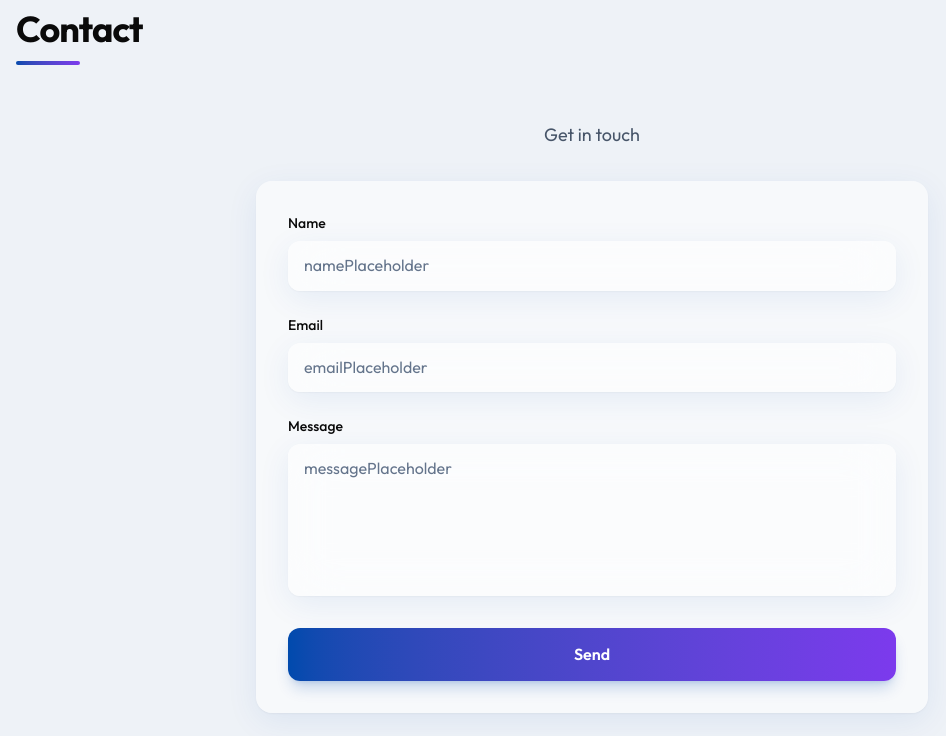
Scenario: Contact › submit button is disabled during loading
The width and height of the screenshot is (946, 736).
Fill out form
In the field labelled "Name": (592, 266) [288,241,896,291], type "John"
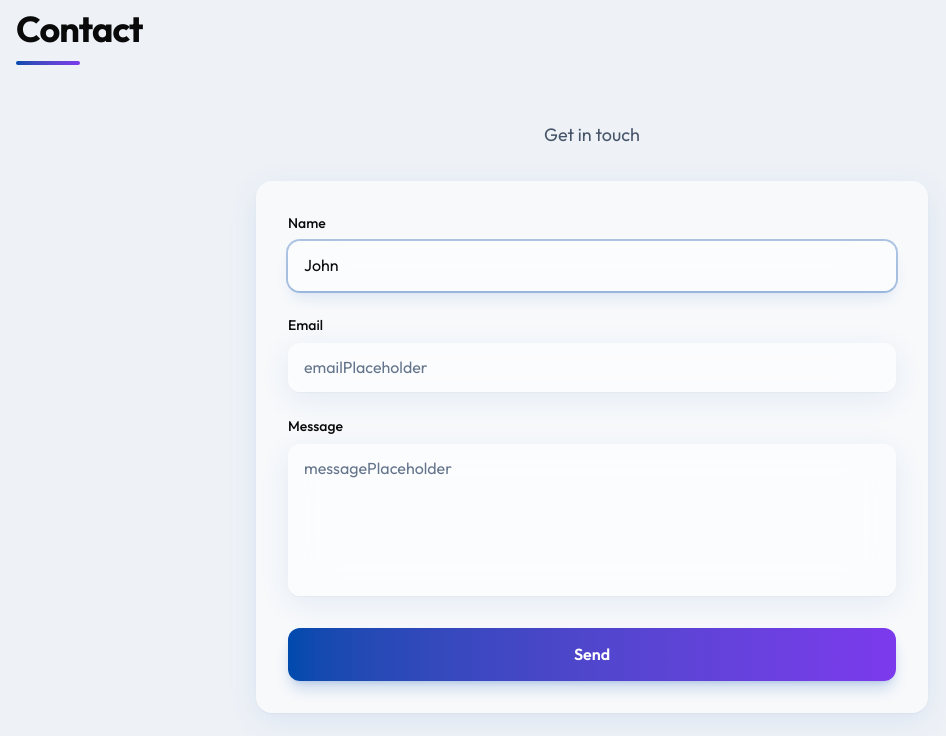
In the field labelled "Email": (592, 367) [288,343,896,392], type "john@test.com"
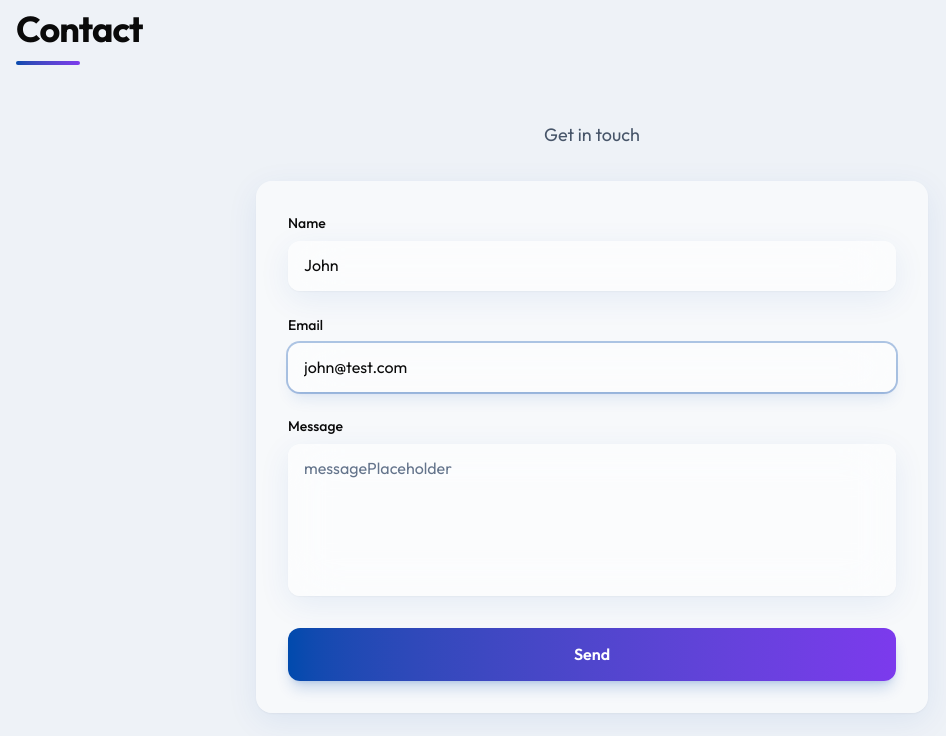
In the text box labelled "Message": (592, 520) [288,444,896,596], type "Hello"
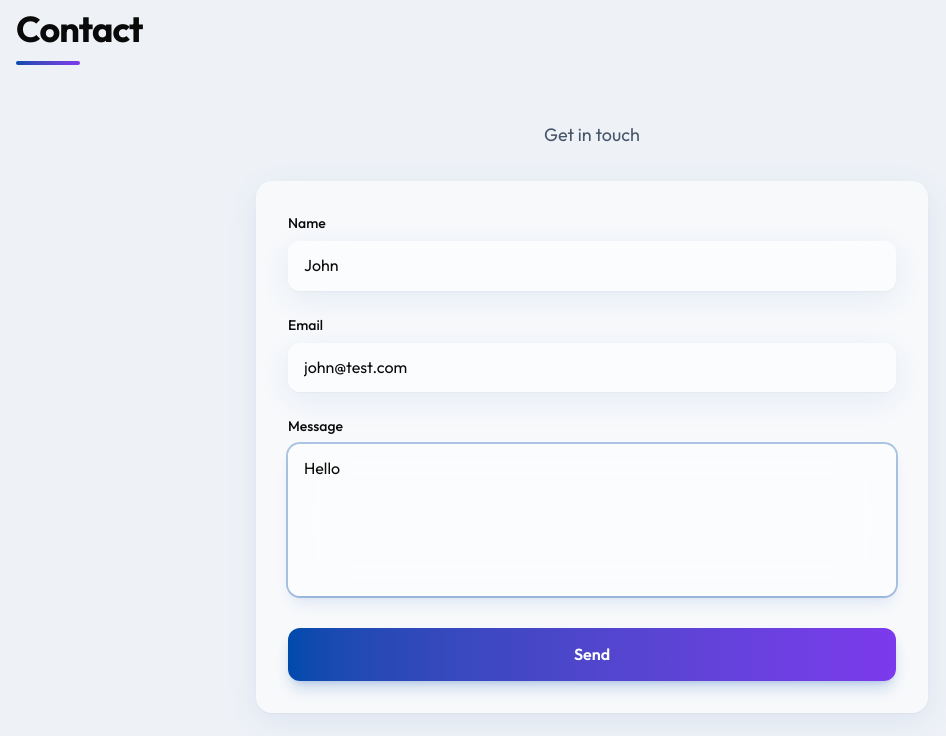
Submit form
Submit the form from the button "Send", box [288,628,896,681]
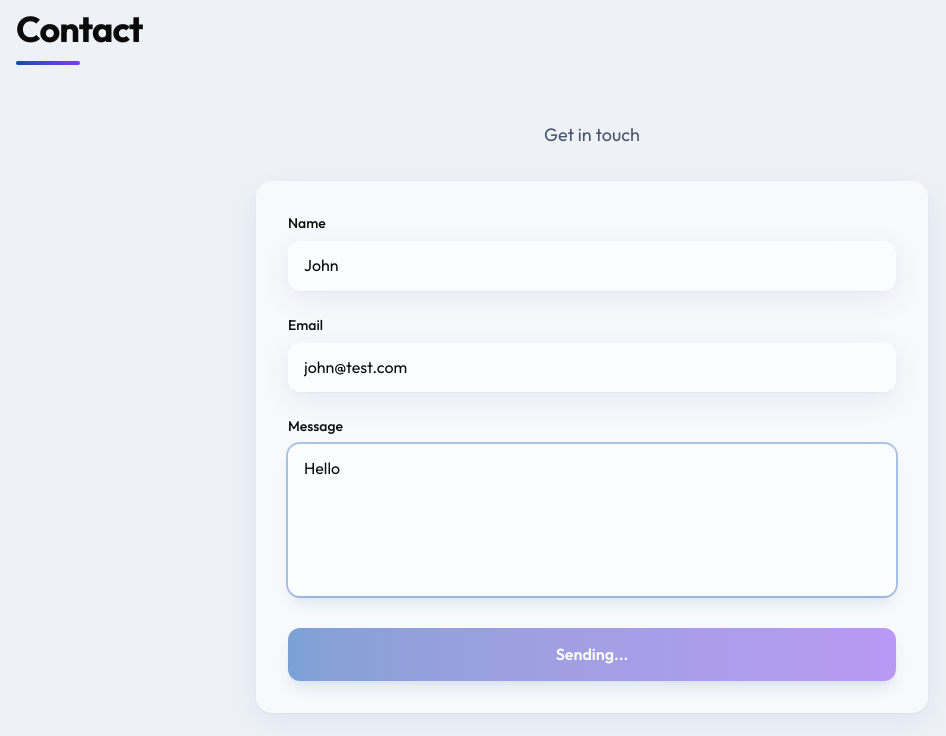
Check: the button "Sending..." is disabled, box [288,628,896,681]
